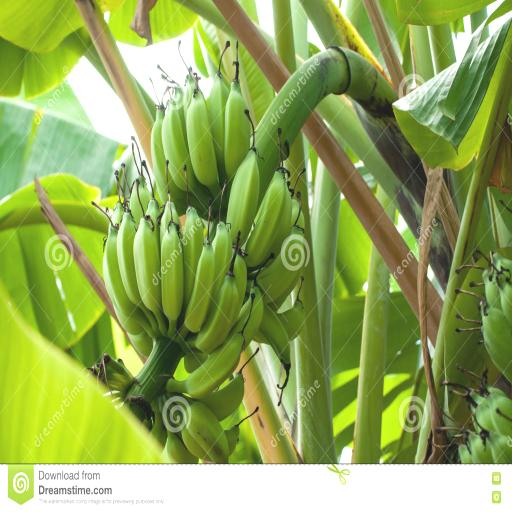banana-unripe: (63, 15, 323, 451)
